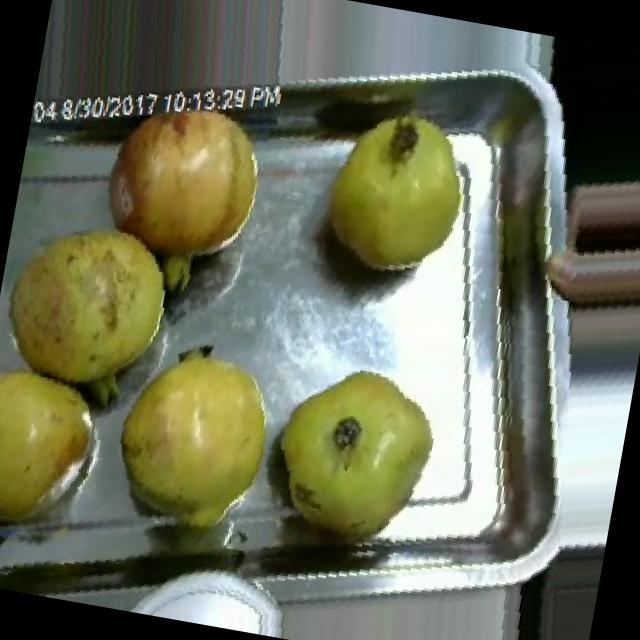fruit: (86, 313, 298, 556), (80, 70, 290, 311), (250, 339, 460, 570), (294, 77, 500, 310), (0, 194, 202, 422), (0, 333, 127, 581), (518, 146, 640, 336)
